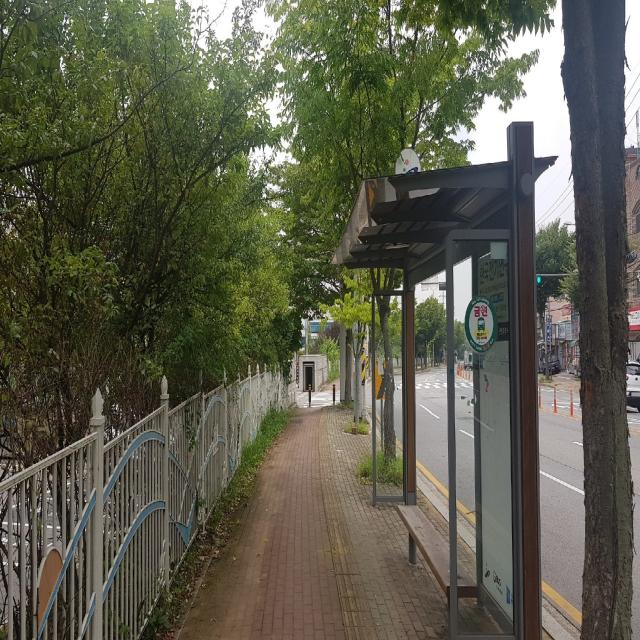횡단보도: (302, 390, 340, 406)
